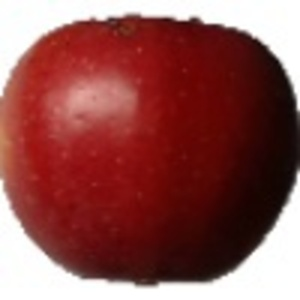maçã braeburn: (2, 10, 299, 287)
